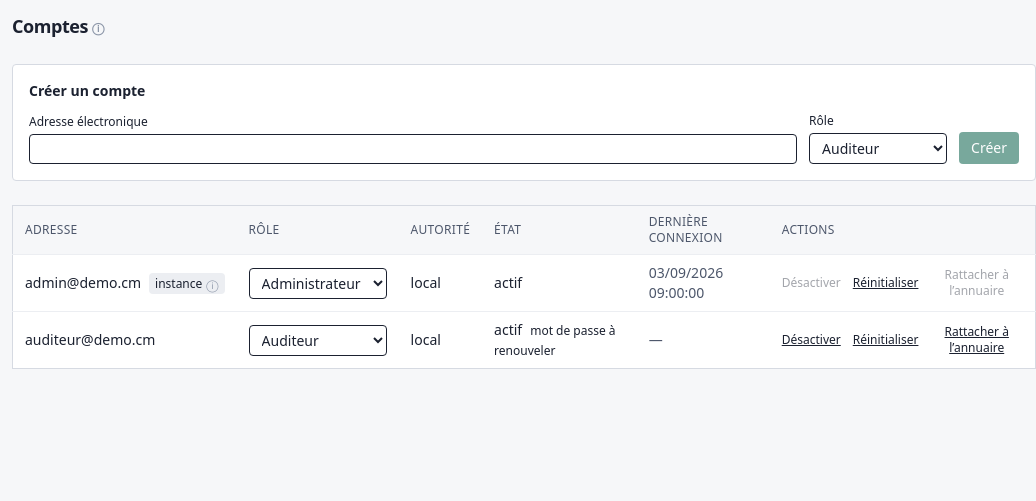
it: gestion des comptes › affiche le mot de passe provisoire une seule fois, à la création
The width and height of the screenshot is (1036, 501).
Expected: the text "auditeur@demo.cm" is shown, [12,312,237,368]
Type "nouveau@demo.cm" into the field labelled "Adresse électronique" at point(413, 149), box [29,134,797,164]
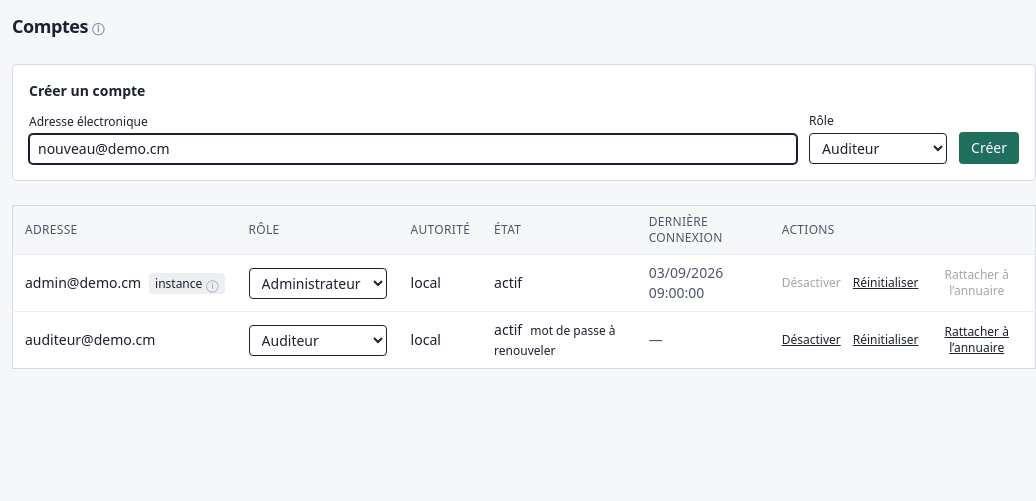
Click the button "Créer" at point(989, 148), box [959,132,1019,164]
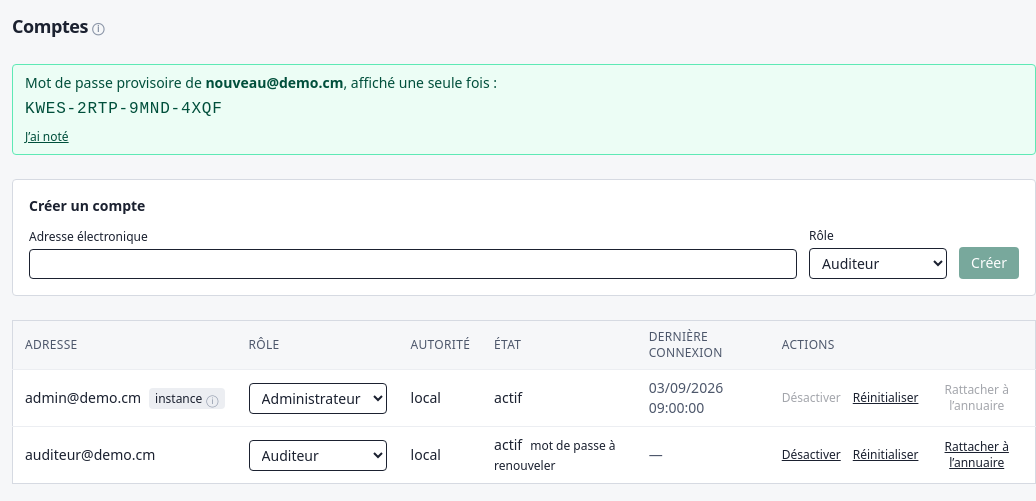
Result: the element with test id "mot-de-passe-provisoire" shows "KWES-2RTP-9MND-4XQF" at [25,100,223,118]
